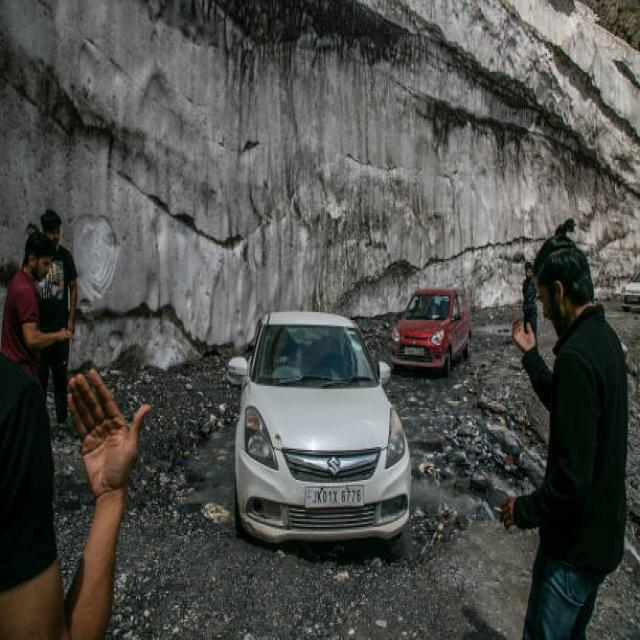LMV: (228, 312, 411, 543), (392, 289, 471, 375)
civilian: (501, 227, 627, 638), (0, 355, 150, 638), (0, 229, 70, 378), (37, 210, 76, 424), (522, 262, 536, 336)
